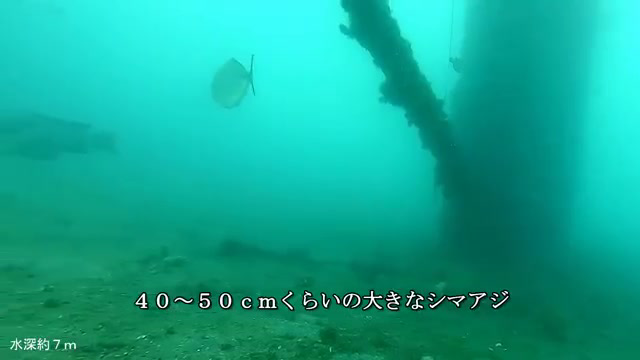hamati: (200, 49, 264, 120)
